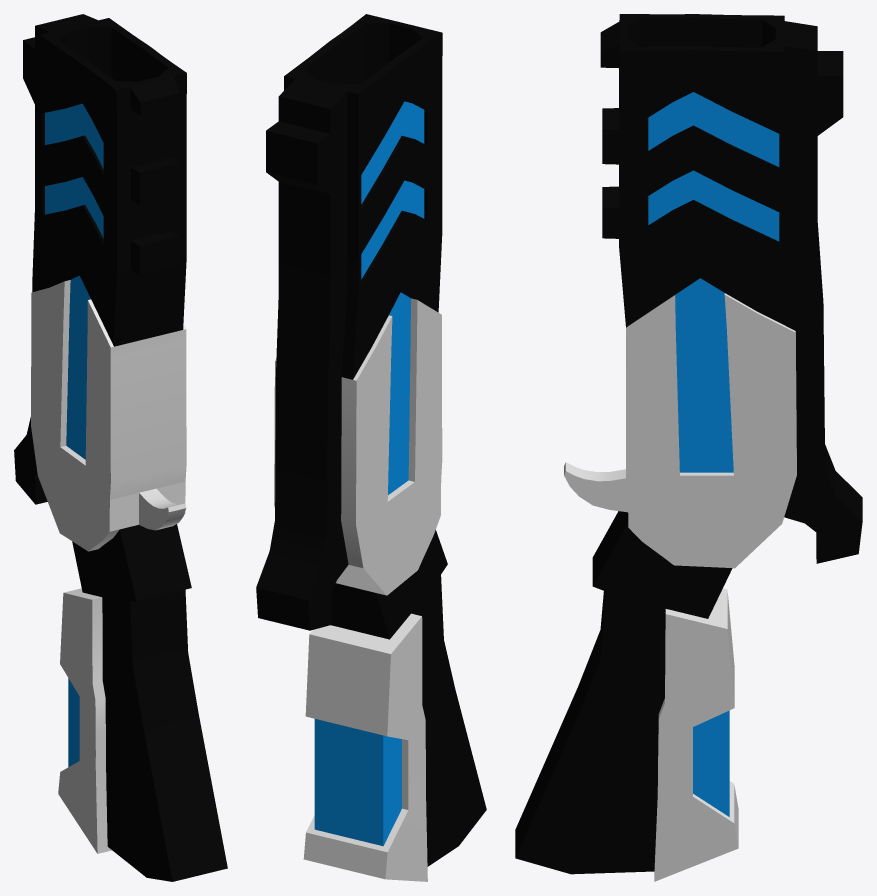
Rendered from Boomer.fbx.
The picture shows the model from 3 angles, left to right: view 1: azimuth 30°, elevation 25°; view 2: azimuth 150°, elevation 25°; view 3: azimuth 270°, elevation 25°; orthographic projection. The views are drawn at different scales.
Parts seen in each view (by area): view 1: Boomer; view 2: Boomer; view 3: Boomer.
Boxes of the visible parts, x1,y1,x2,y2 form: Boomer: [14, 14, 227, 881]; Boomer: [256, 14, 486, 881]; Boomer: [515, 14, 862, 881].
Bounding box in the file's own units: 27.87 × 273 × 103.
